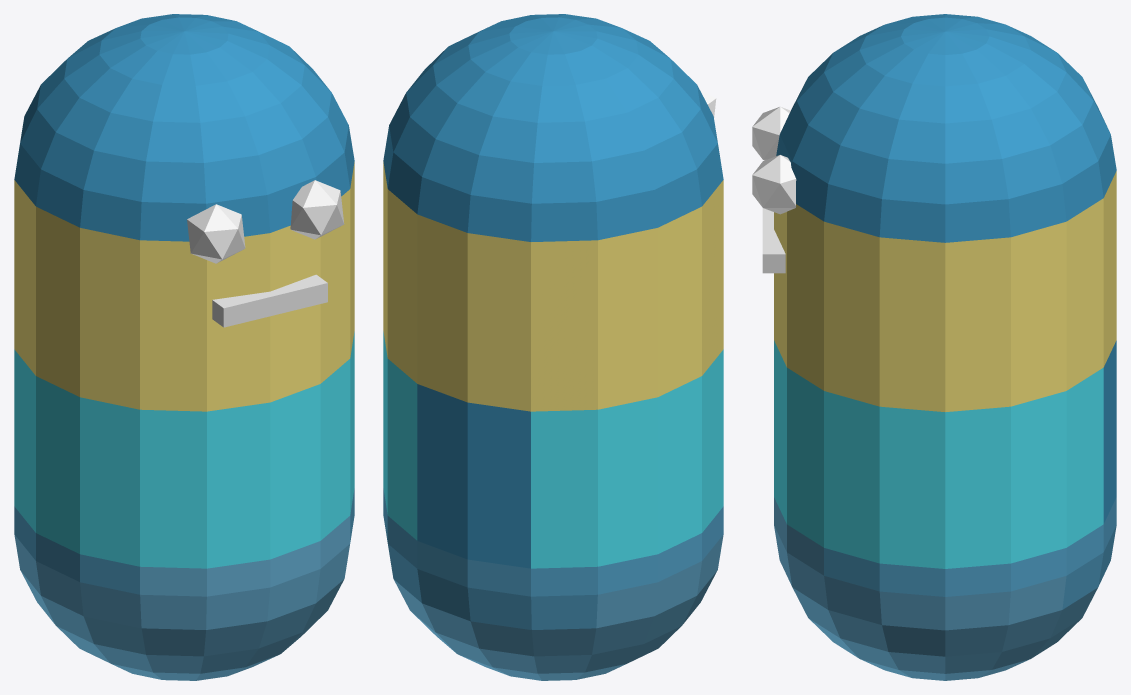
Rendered from player.fbx.
3 renders of one model, left to right at view 1: azimuth 30°, elevation 25°; view 2: azimuth 150°, elevation 25°; view 3: azimuth 270°, elevation 25°, orthographic.
Parts seen in each view (by area): view 1: Sphere; view 2: Sphere; view 3: Sphere.
Boxes of the visible parts, bbox=[...] form: Sphere: bbox=[14, 14, 354, 680]; Sphere: bbox=[383, 14, 723, 680]; Sphere: bbox=[752, 14, 1116, 680].
Size of the model in its own units: 83.42 by 170 by 88.68.
Materials: 1 (1 with a texture image).
